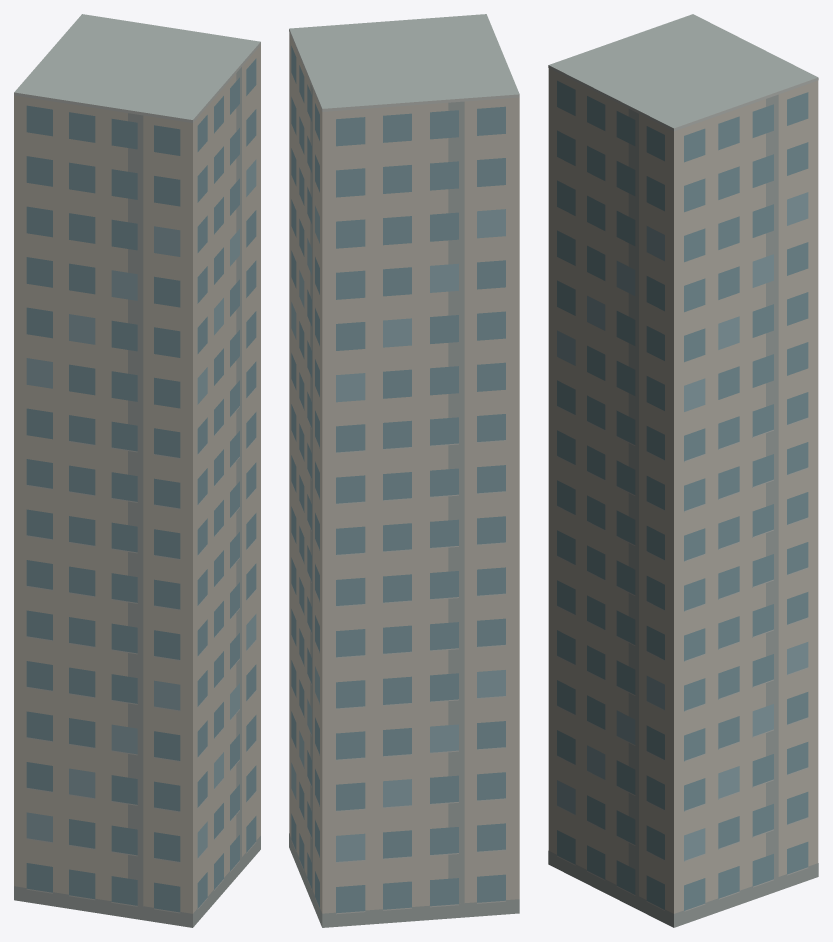
File: residential-6c37a63d-1847-4c3c-b249-9f92be965d1b.glb
The picture shows the model from 3 angles, left to right: view 1: azimuth 30°, elevation 25°; view 2: azimuth 150°, elevation 25°; view 3: azimuth 270°, elevation 25°; orthographic projection. The views are drawn at different scales.
Parts seen in each view (by area): view 1: residential-6c37a63d-1847-4c3c-b249-9f92be965d1b.tmp; view 2: residential-6c37a63d-1847-4c3c-b249-9f92be965d1b.tmp; view 3: residential-6c37a63d-1847-4c3c-b249-9f92be965d1b.tmp.
Boxes of the visible parts, box(x1,y1,x2,y2) form: residential-6c37a63d-1847-4c3c-b249-9f92be965d1b.tmp: box(14, 14, 260, 927); residential-6c37a63d-1847-4c3c-b249-9f92be965d1b.tmp: box(289, 14, 519, 927); residential-6c37a63d-1847-4c3c-b249-9f92be965d1b.tmp: box(548, 14, 818, 927).
Size of the model in its own units: 19.97 by 65 by 19.9.
